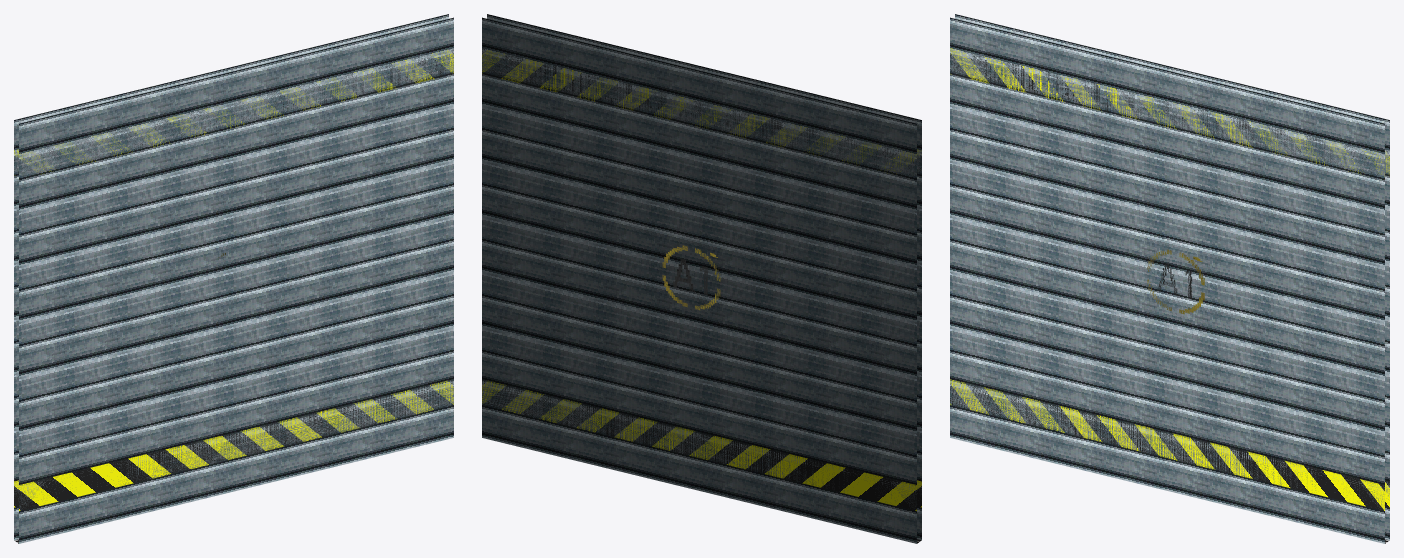
The model's file is Pdoor_roller2Z.obj.
The picture shows the model from 3 angles, left to right: view 1: azimuth 30°, elevation 25°; view 2: azimuth 150°, elevation 25°; view 3: azimuth 330°, elevation 25°; orthographic projection.
Size of the model in its own units: 1516 by 1400 by 30.
4 materials, 4 textured.
